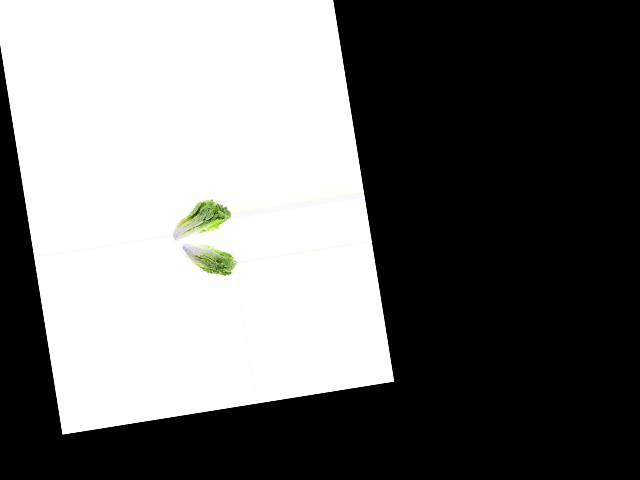lettuce: (175, 235, 238, 284)
